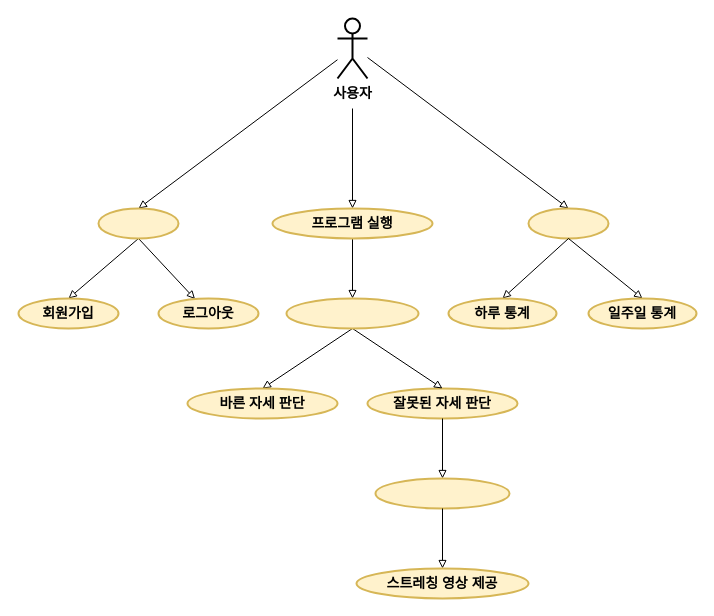
Some shapes in this 714 by 616 pixel diagram are drawn without their labels. The centre of each missing label's shape, as x and y in pixels:
"경고 창 알림" goes at point 442,493.
"레포트" goes at point 568,223.
"로그인" goes at point 138,223.
"바른자세 입력" goes at point 352,313.
